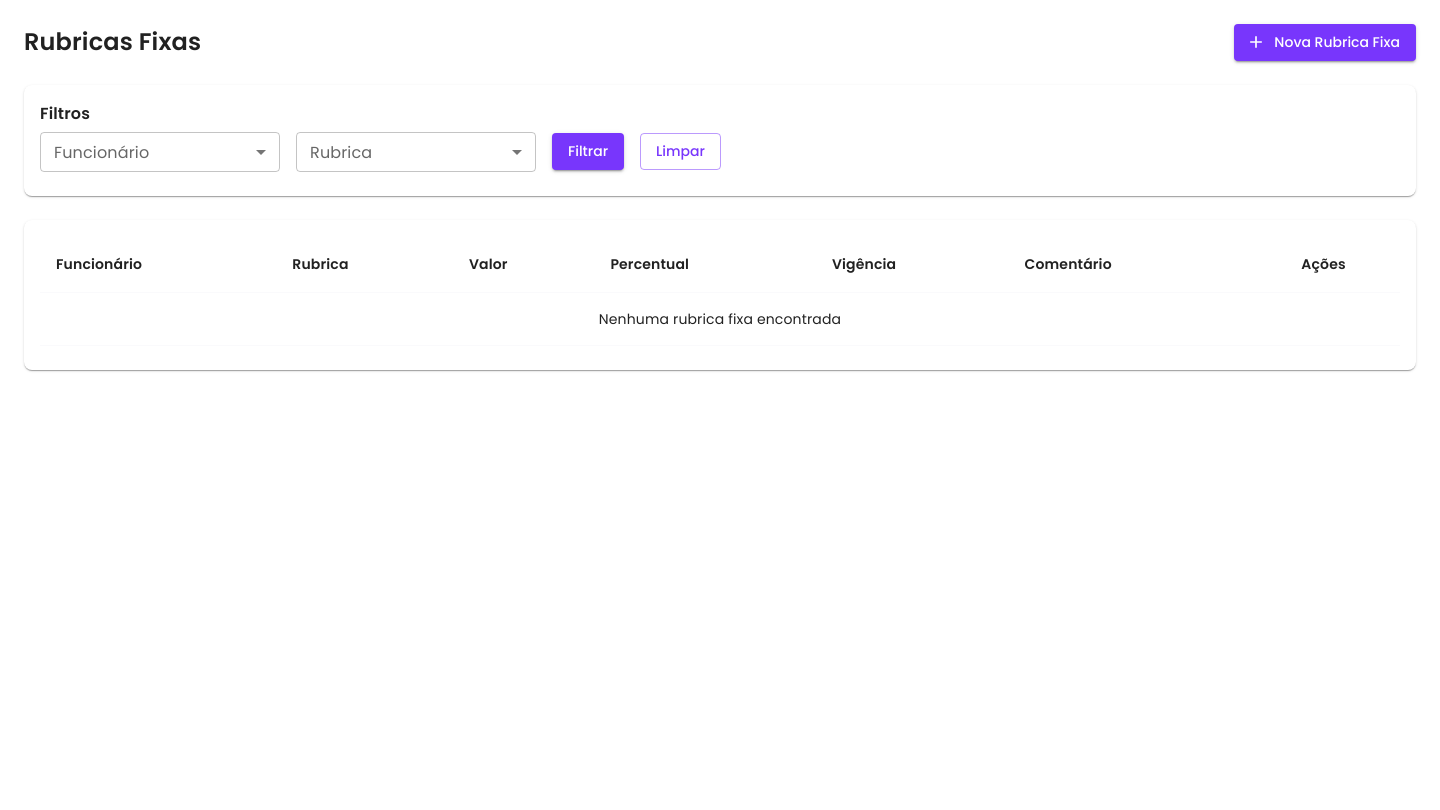
Test: RubricasFixas page › opens create dialog from Nova Rubrica Fixa button
Click the button "Nova Rubrica Fixa" at (1325,42), box [1234,24,1416,60]
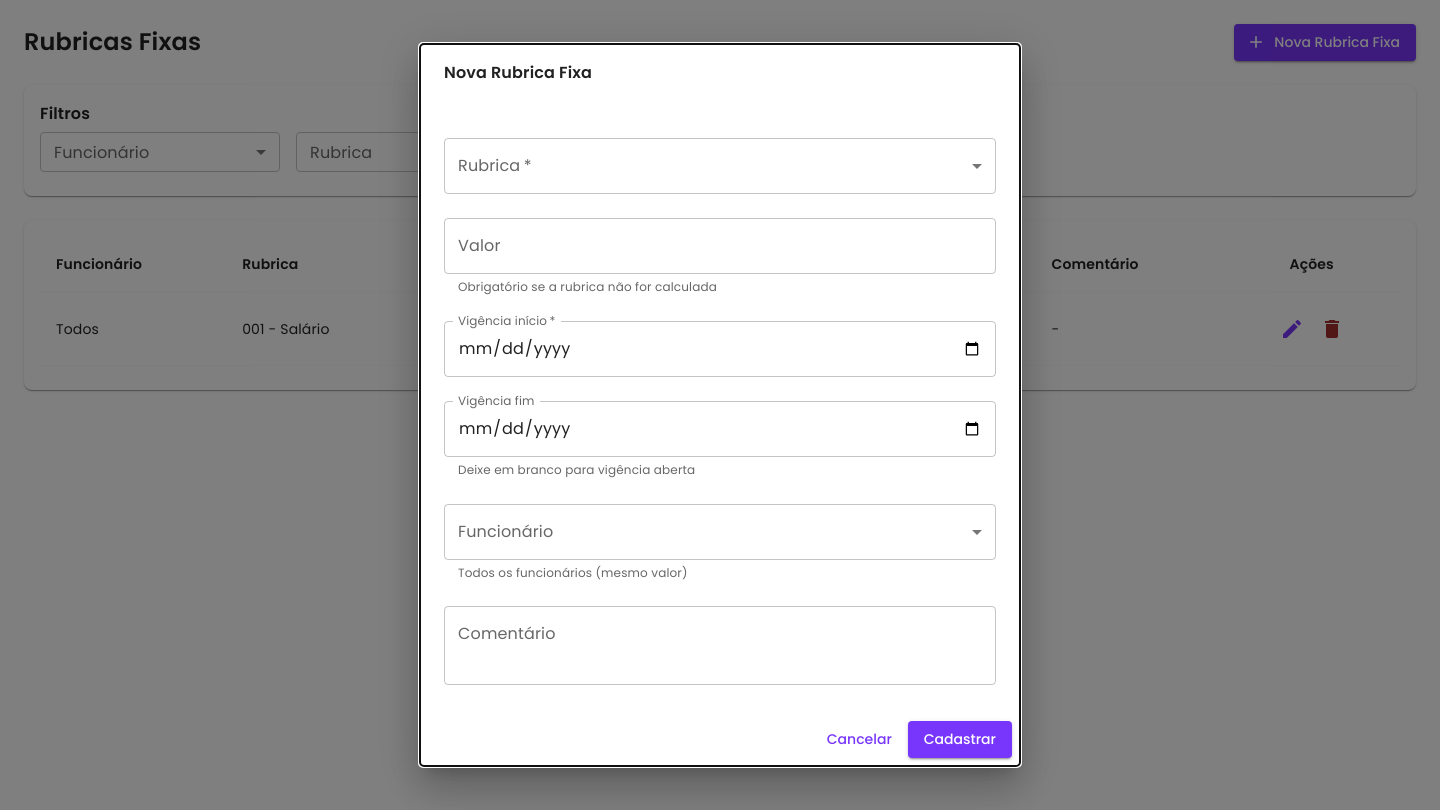
Check: the dialog is shown, box [420,44,1020,766]
Check: the heading "Nova Rubrica Fixa" is shown, box [444,61,592,84]
